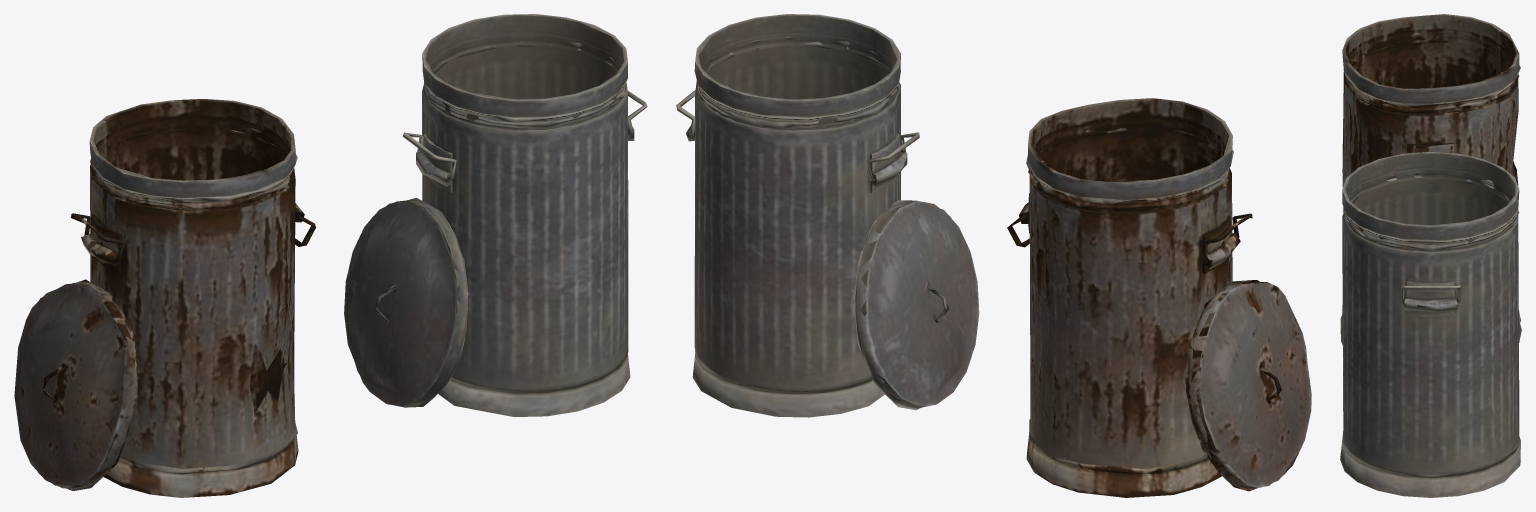
The model's file is metal_trash_can.gltf.
3 views of the same model, side by side, from view 1: azimuth 30°, elevation 25°; view 2: azimuth 150°, elevation 25°; view 3: azimuth 270°, elevation 25° (orthographic). The views are drawn at different scales.
Parts seen in each view (by area): view 1: metal_trash_can, metal_trash_can_rust, metal_trash_can_lid, metal_trash_can_rust_lid; view 2: metal_trash_can, metal_trash_can_rust, metal_trash_can_lid, metal_trash_can_rust_lid; view 3: metal_trash_can, metal_trash_can_rust, metal_trash_can_handle_right.
Part boxes in pixels (x1=…): metal_trash_can: x1=416, y1=14, x2=634, y2=416; metal_trash_can_rust: x1=81, y1=99, x2=304, y2=497; metal_trash_can_lid: x1=344, y1=198, x2=468, y2=407; metal_trash_can_rust_lid: x1=14, y1=279, x2=137, y2=490; metal_trash_can: x1=686, y1=14, x2=907, y2=417; metal_trash_can_rust: x1=1019, y1=98, x2=1240, y2=497; metal_trash_can_lid: x1=854, y1=200, x2=979, y2=410; metal_trash_can_rust_lid: x1=1185, y1=280, x2=1311, y2=491; metal_trash_can: x1=1340, y1=152, x2=1520, y2=497; metal_trash_can_rust: x1=1342, y1=14, x2=1520, y2=322; metal_trash_can_handle_right: x1=1401, y1=284, x2=1460, y2=303.
Size of the model in its own units: 1.78 by 0.9062 by 0.5524.
Materials: 3 (3 with a texture image).
